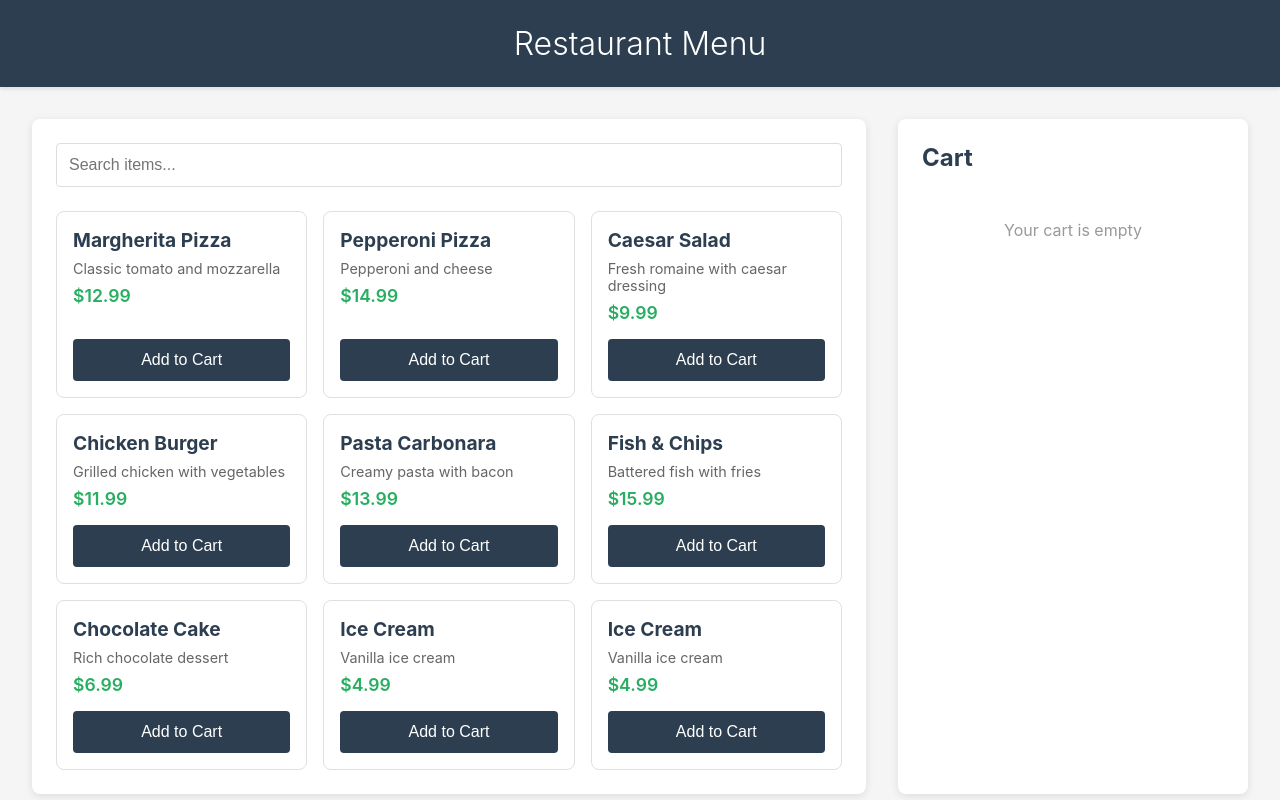
Test case: App › removes item from cart when remove button is clicked
The width and height of the screenshot is (1280, 800).
Click the button "Add to Cart" below "12.99" at {"x": 182, "y": 360}, box [73,339,290,381]
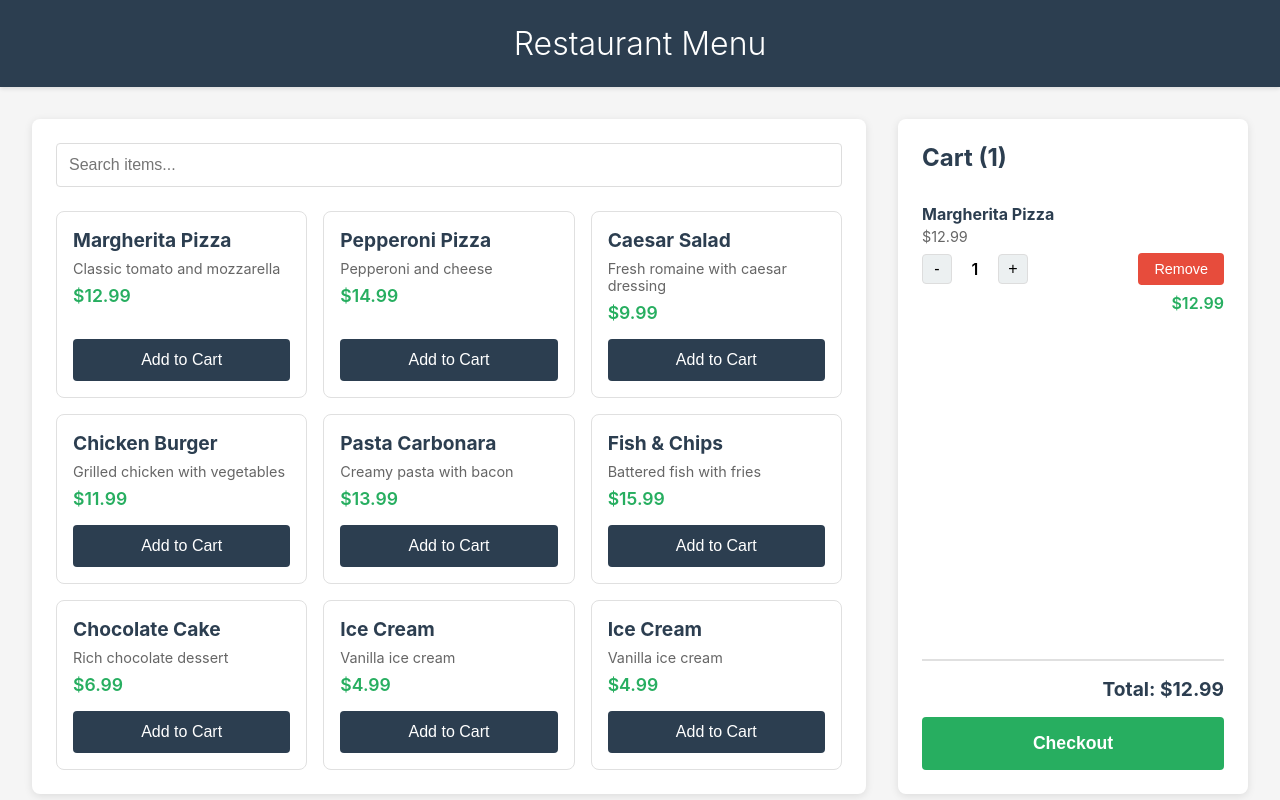
Expected: the heading "Cart (1)" is shown, [922,143,1007,172]
Click the button "Remove" at {"x": 1181, "y": 269}, box [1138,253,1224,285]
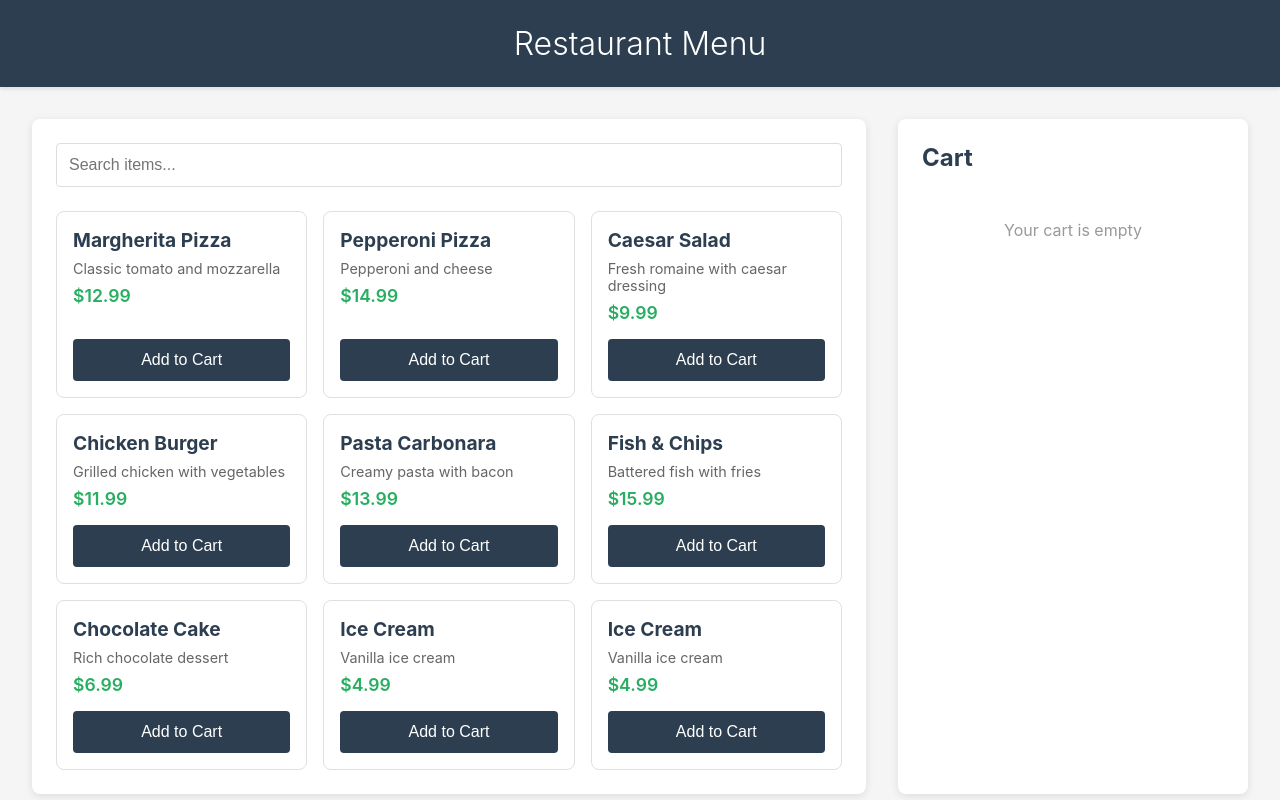
Expected: the text "Your cart is empty" is shown, [1004,220,1142,240]
